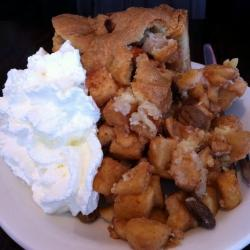apple_pie: (49, 10, 205, 183)
chantilly: (1, 48, 106, 217)
